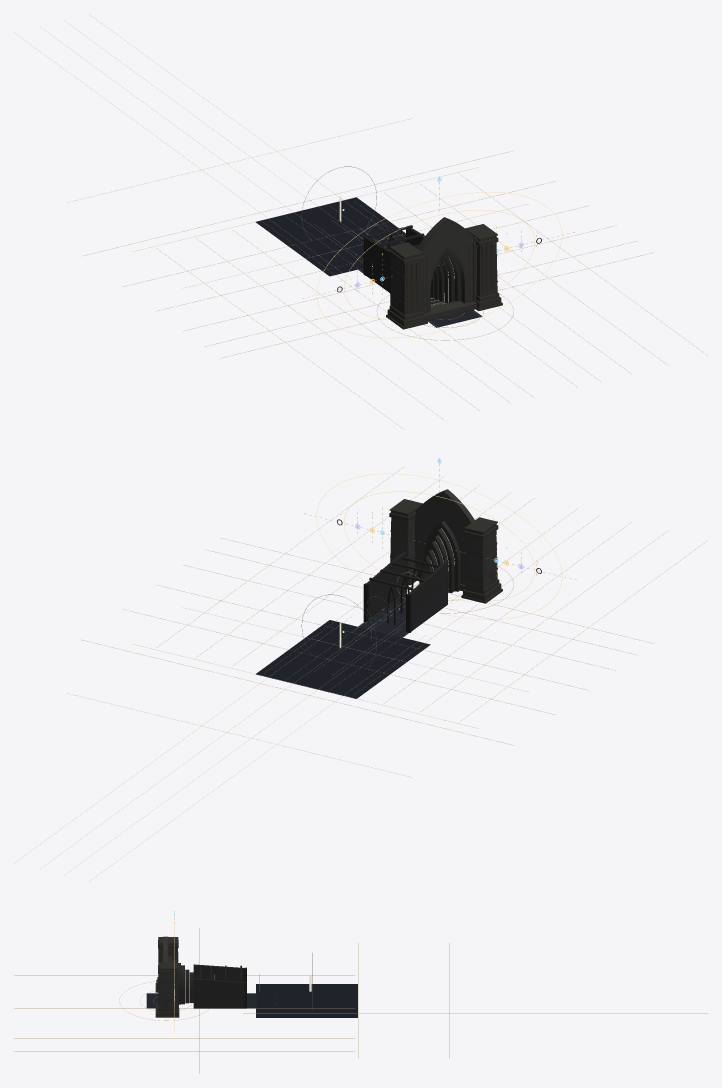
Rendered from tahamohammadi-portal-v1.4-preview.glb.
3 views of the same model, one above another, from view 1: azimuth 30°, elevation 25°; view 2: azimuth 150°, elevation 25°; view 3: azimuth 270°, elevation 25° (orthographic). The views are drawn at different scales.
Visible parts, largest first — view 1: Arch_StoneMain, HM_Passage_FloorDeep, Floor_Lines_Major, Passage_Stone, Arch_StoneInner, Floor_Lines_Deep; view 2: HM_Passage_FloorDeep, Arch_StoneMain, Passage_Stone, Floor_Lines_Major, Arch_StoneInner, Floor_Lines_Deep, Passage_Floor; view 3: HM_Passage_FloorDeep, Passage_Stone, Arch_StoneMain, Floor_Lines_Major, Floor_Lines_Deep, Arch_StoneInner, Passage_Floor.
Part boxes in pixels (x1,y1,x2,y2): Arch_StoneMain: [386, 217, 502, 329]; HM_Passage_FloorDeep: [255, 197, 405, 276]; Floor_Lines_Major: [83, 150, 707, 429]; Passage_Stone: [366, 225, 447, 292]; Arch_StoneInner: [423, 244, 472, 310]; Floor_Lines_Deep: [14, 16, 528, 287]; HM_Passage_FloorDeep: [256, 620, 430, 698]; Arch_StoneMain: [389, 489, 502, 603]; Passage_Stone: [366, 551, 447, 630]; Floor_Lines_Major: [81, 467, 707, 745]; Arch_StoneInner: [420, 521, 460, 593]; Floor_Lines_Deep: [14, 608, 528, 879]; Passage_Floor: [358, 571, 448, 637]; HM_Passage_FloorDeep: [256, 984, 357, 1017]; Passage_Stone: [193, 964, 244, 1008]; Arch_StoneMain: [155, 936, 179, 1017]; Floor_Lines_Major: [14, 928, 354, 1073]; Floor_Lines_Deep: [243, 943, 707, 1058]; Arch_StoneInner: [168, 956, 193, 1004]; Passage_Floor: [146, 993, 256, 1008].
Bounding box in the file's own units: 60 × 20.54 × 121.
19 materials, 6 textured.
